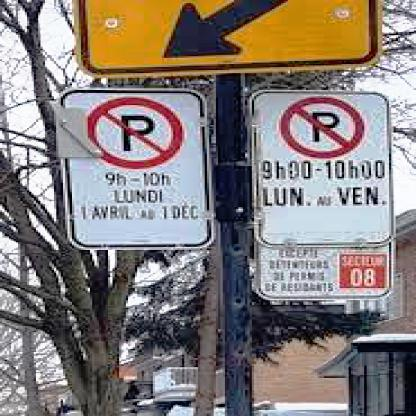No parking: (82, 85, 188, 179), (265, 82, 383, 161)
